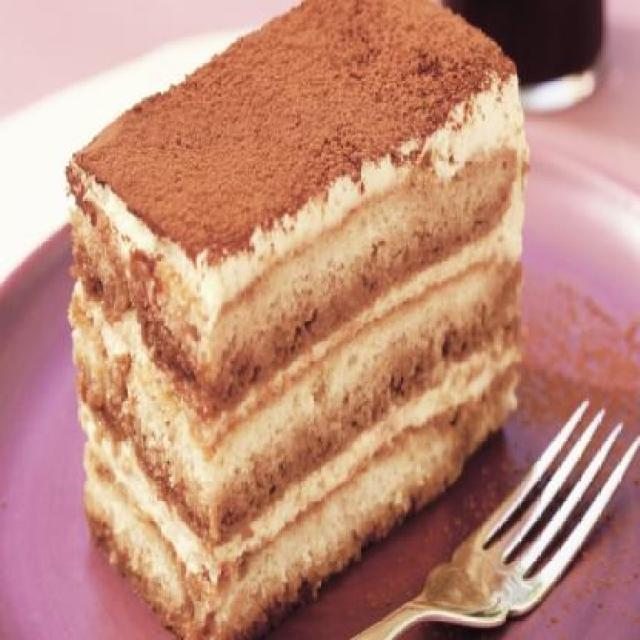Tiramisu: (83, 5, 534, 587)
